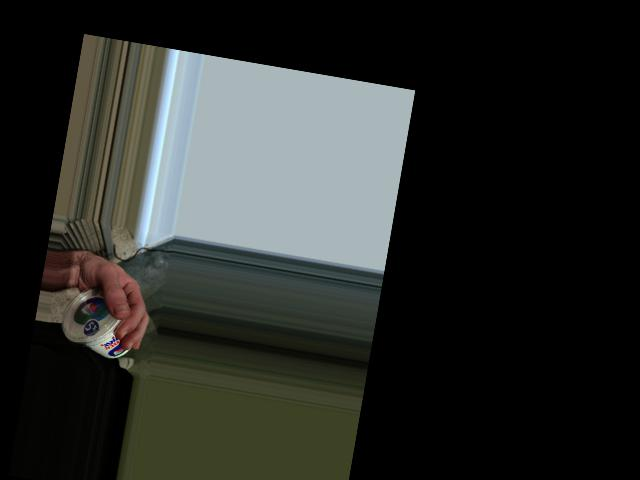cotage: (54, 283, 142, 362)
